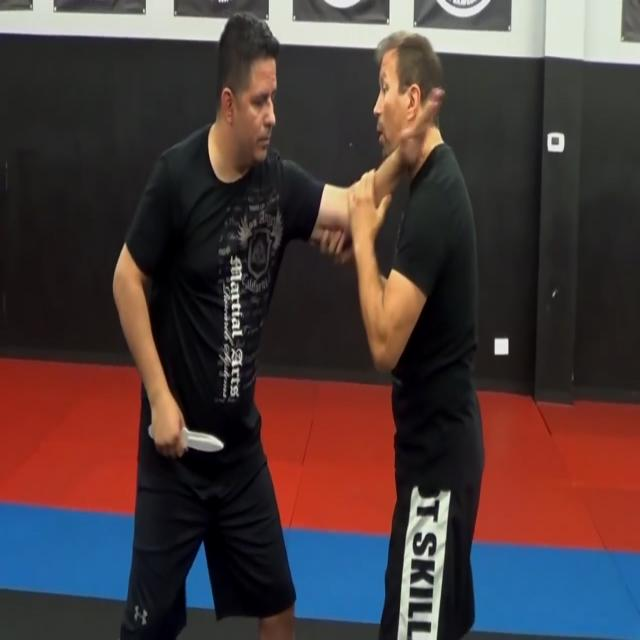knife: (180, 428, 228, 462)
